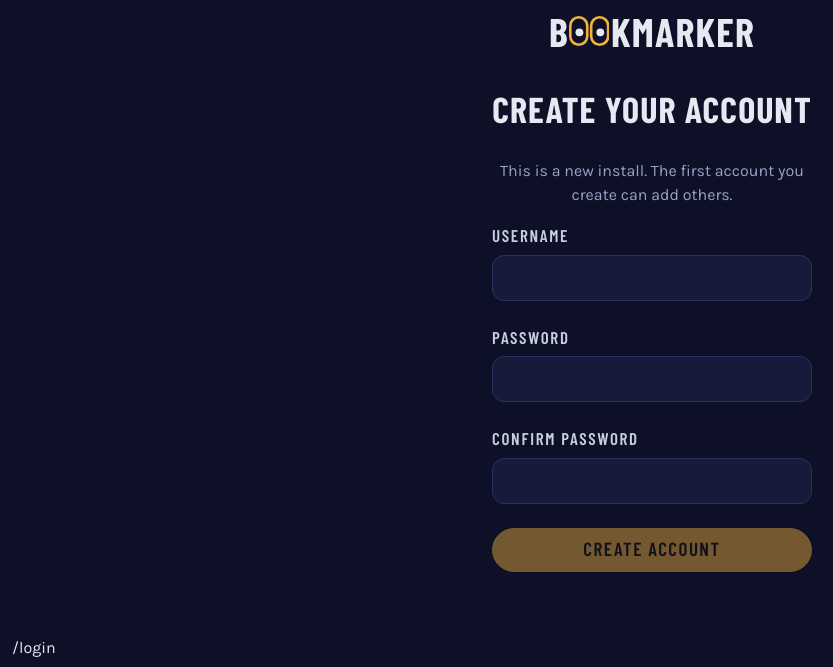
Test case: Login › first-run setup › shows the server's error (e.g. password too short)
Step 1. Type "paul" into the field labelled "Username" → (652, 278), box x1=492 y1=254 x2=812 y2=300
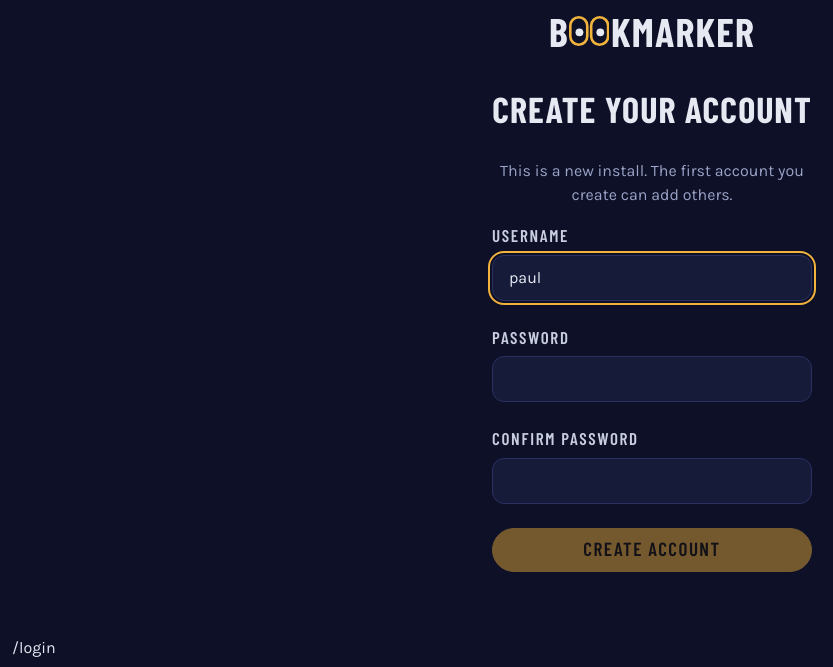
Step 2. Type "short" into the password field labelled "Password" → (652, 379), box x1=492 y1=356 x2=812 y2=402
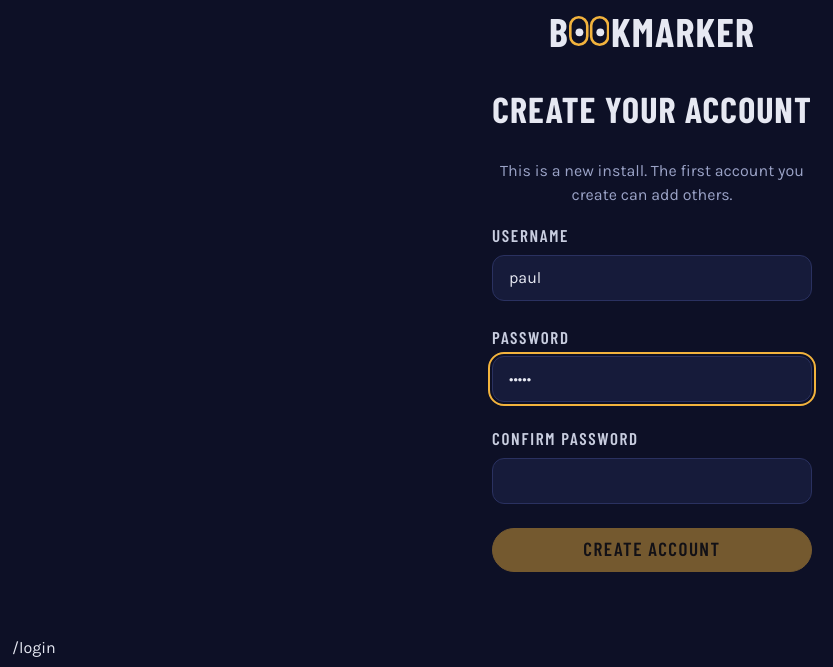
Step 3. Type "short" into the password field labelled "Confirm password" → (652, 480), box x1=492 y1=458 x2=812 y2=504
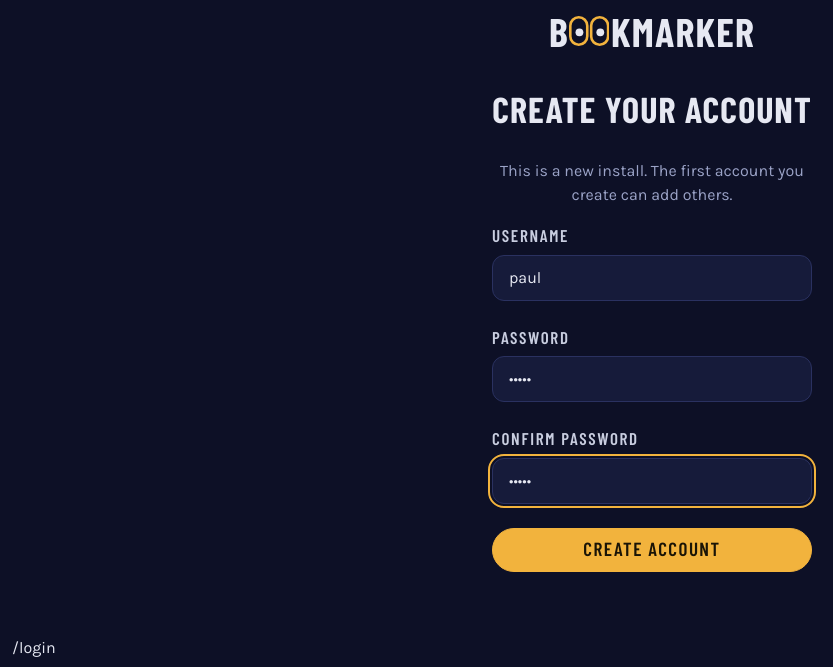
Step 4. Click the button "Create account" → click(652, 550), box x1=492 y1=528 x2=812 y2=572
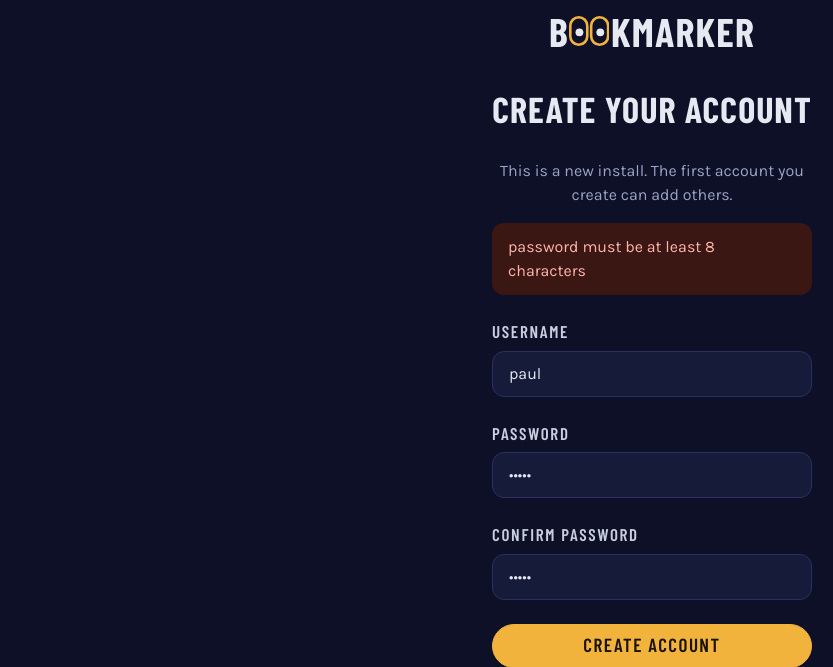
Expected: the message reads "password must be at least 8 characters", x1=508 y1=237 x2=715 y2=280
